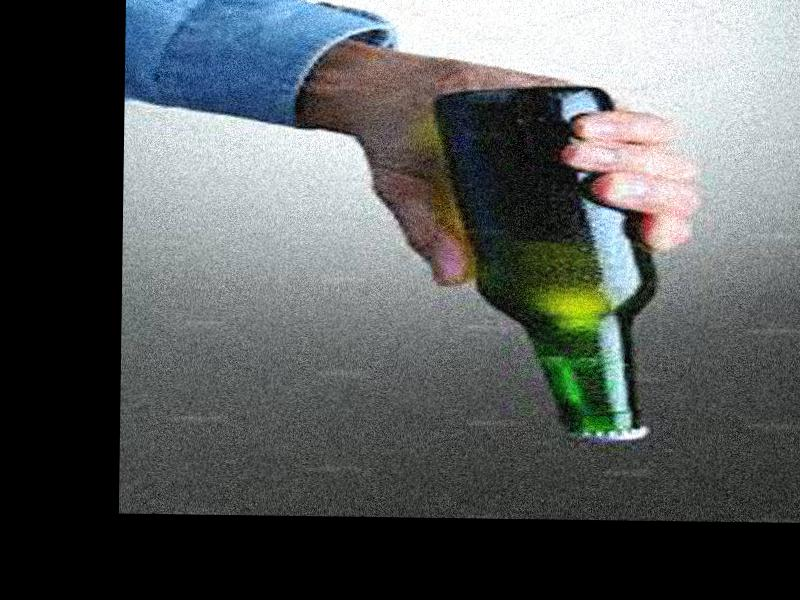Beer: (425, 86, 670, 437)
